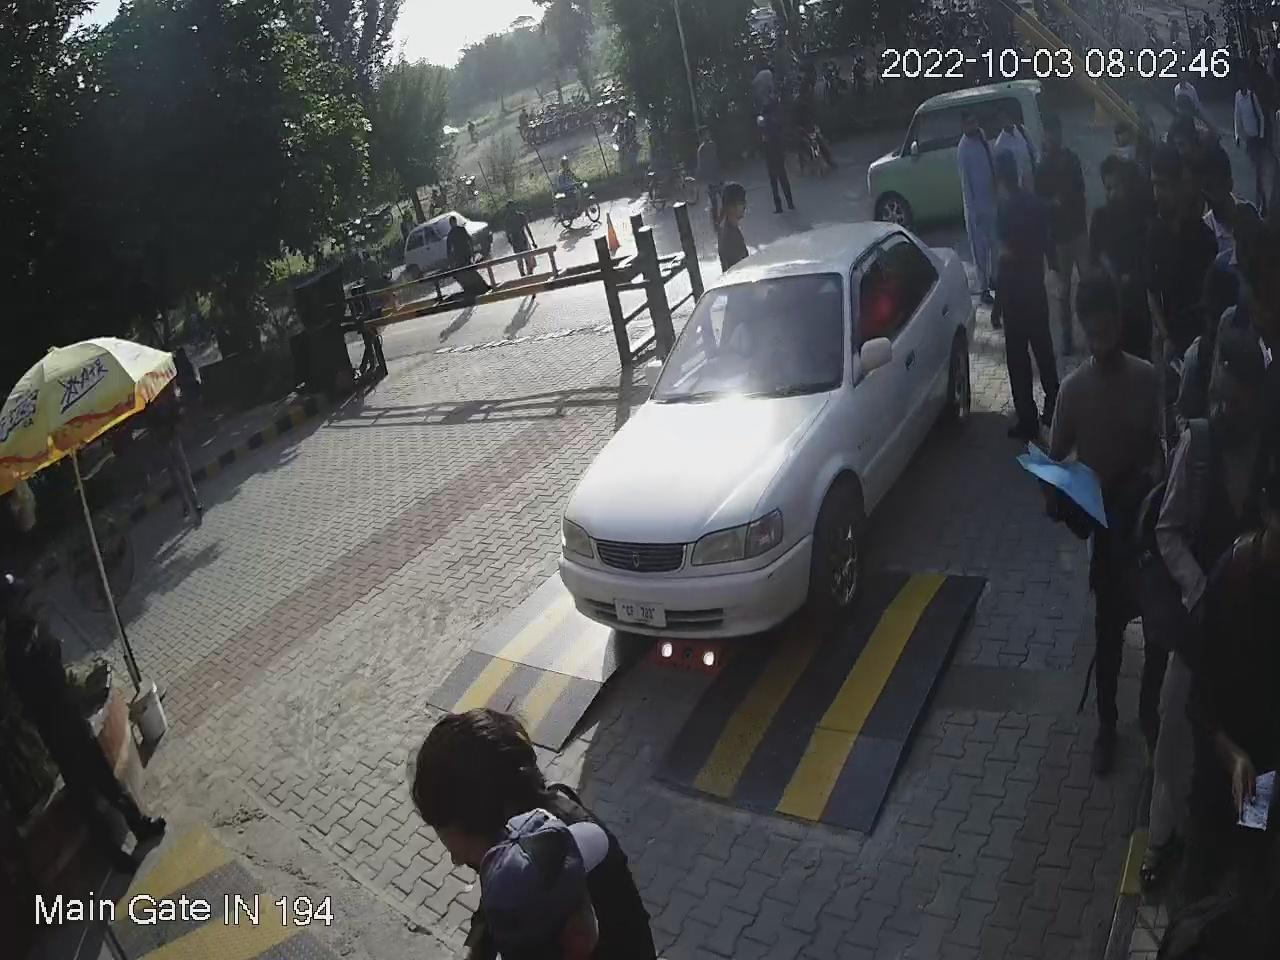windshield: (643, 262, 856, 412)
